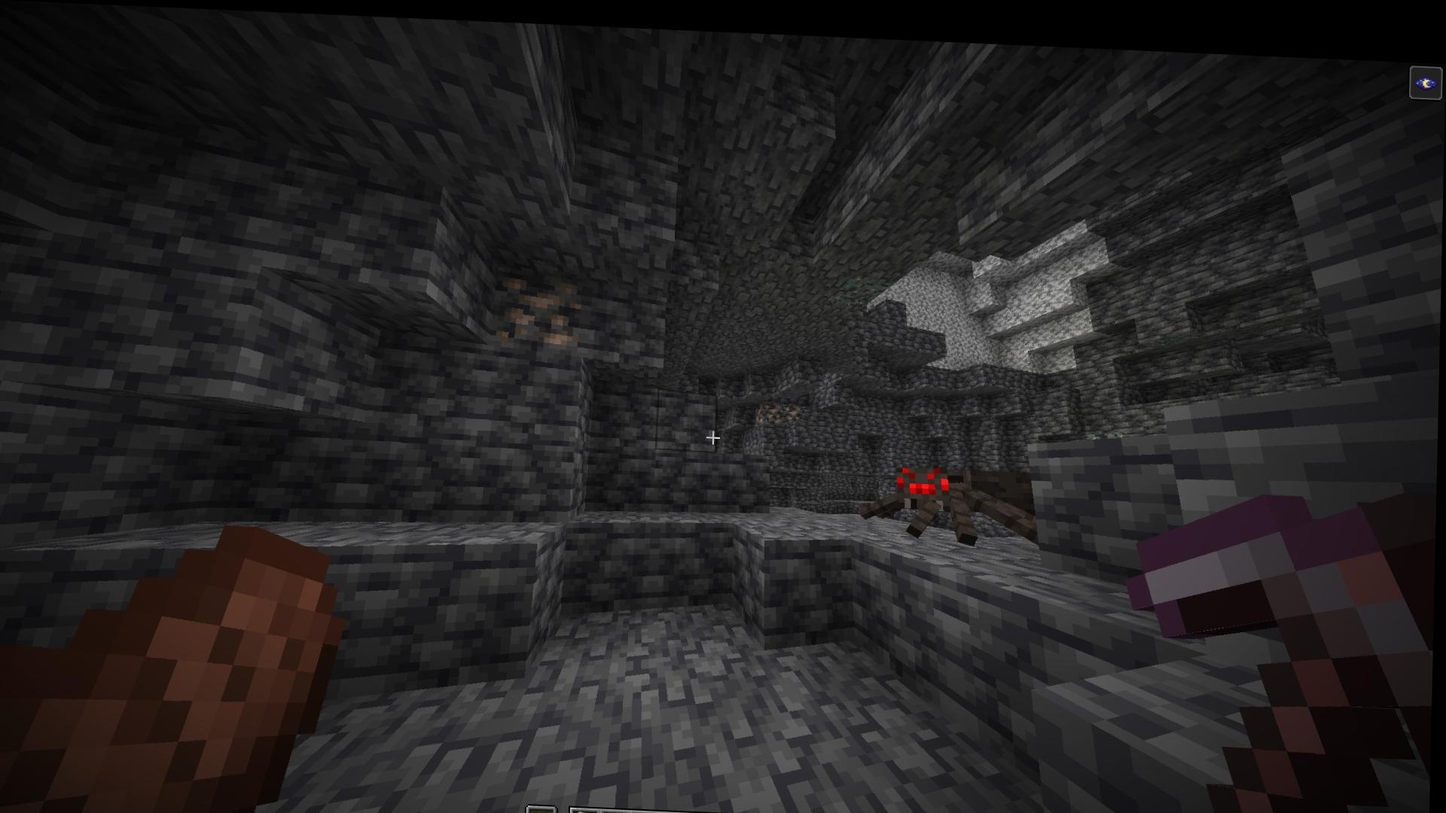iron ore: (487, 265, 594, 347), (779, 394, 806, 421), (757, 394, 784, 418)
